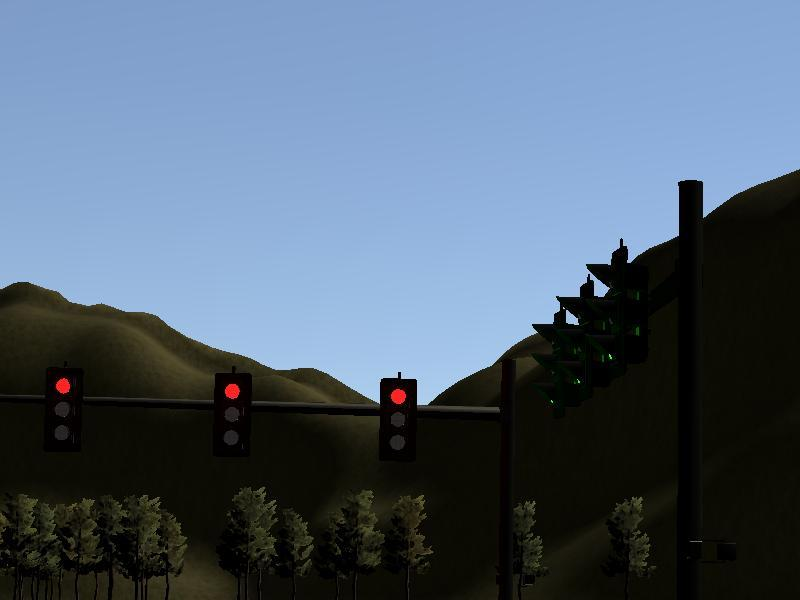Red: (44, 370, 84, 454), (211, 373, 251, 457), (379, 378, 416, 462)
